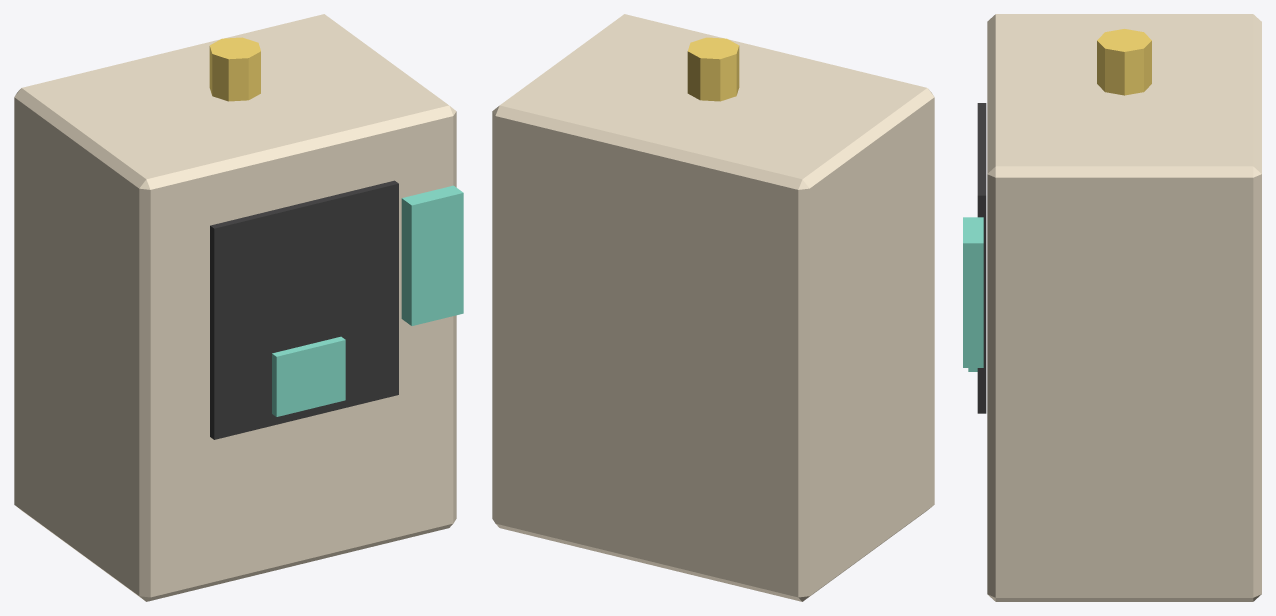
3 views of the same model, side by side, from view 1: azimuth 30°, elevation 25°; view 2: azimuth 150°, elevation 25°; view 3: azimuth 270°, elevation 25° (orthographic). The views are drawn at different scales.
Visible parts, largest first — view 1: Machine, Cabinet window, Control panel, Workpiece, Warning lamp; view 2: Machine, Warning lamp; view 3: Machine, Warning lamp, Control panel, Cabinet window.
Part boxes in pixels (x1,y1,x2,y2): Machine: (14,14,456,601); Cabinet window: (210,180,398,439); Control panel: (401,185,463,325); Workpiece: (272,336,345,416); Warning lamp: (209,37,260,101); Machine: (492,14,934,601); Warning lamp: (687,37,739,101); Machine: (987,14,1261,601); Warning lamp: (1097,29,1151,95); Control panel: (963,217,983,367); Cabinet window: (977,103,986,413).
Bounding box in the file's own units: 110 × 156 × 87.
